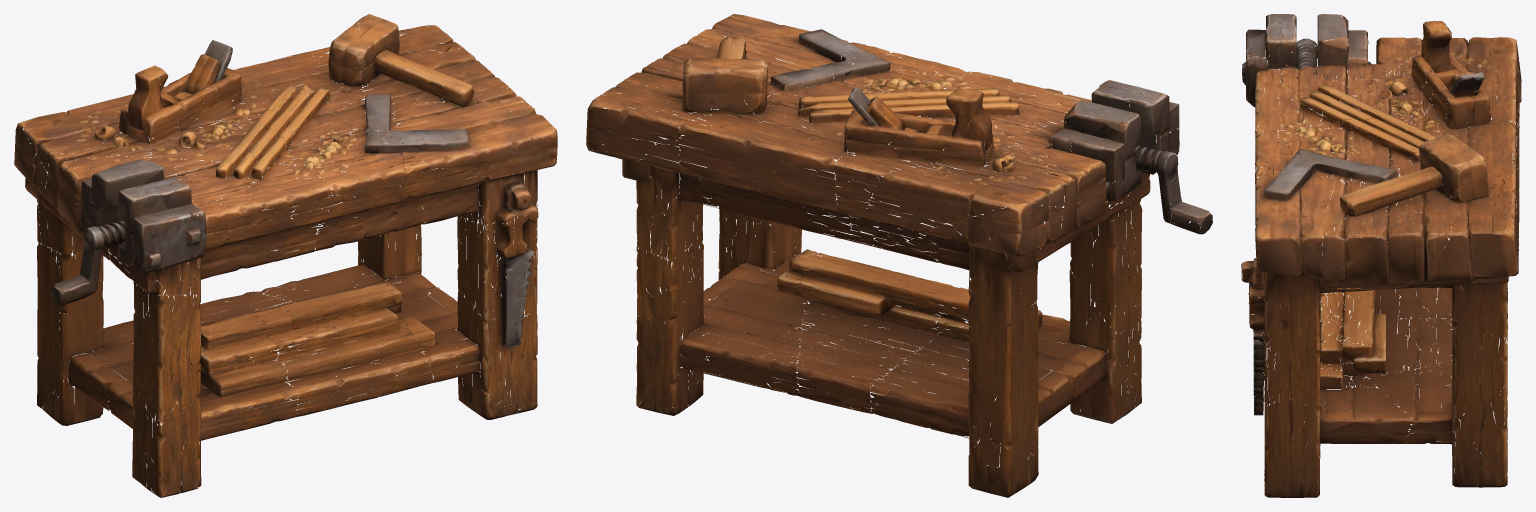
File: workbench.glb
The picture shows the model from 3 angles, left to right: view 1: azimuth 30°, elevation 25°; view 2: azimuth 150°, elevation 25°; view 3: azimuth 270°, elevation 25°; orthographic projection. The views are drawn at different scales.
Parts seen in each view (by area): view 1: tripo_node_6aed9bd8-dc94-407e-b5c0-93c03d292a5f; view 2: tripo_node_6aed9bd8-dc94-407e-b5c0-93c03d292a5f; view 3: tripo_node_6aed9bd8-dc94-407e-b5c0-93c03d292a5f.
Part boxes in pixels (box(x1,y1,x2,y2)): tripo_node_6aed9bd8-dc94-407e-b5c0-93c03d292a5f: box(14, 14, 557, 497); tripo_node_6aed9bd8-dc94-407e-b5c0-93c03d292a5f: box(586, 14, 1212, 497); tripo_node_6aed9bd8-dc94-407e-b5c0-93c03d292a5f: box(1241, 14, 1521, 497).
Size of the model in its own units: 0.9778 by 0.6649 by 0.5071.
1 material, 1 textured.
